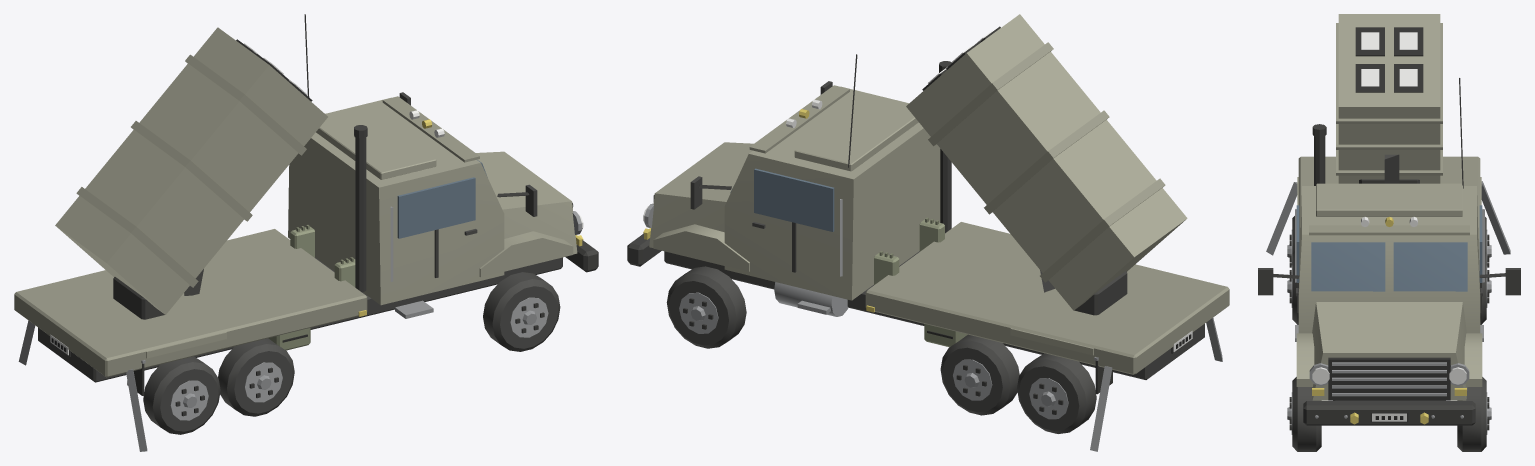
Rendered from arrow.glb.
3 views of the same model, side by side, from view 1: azimuth 30°, elevation 25°; view 2: azimuth 150°, elevation 25°; view 3: azimuth 270°, elevation 25° (orthographic). The views are drawn at different scales.
Visible parts, largest first — view 1: hull, turret; view 2: hull, turret; view 3: hull, turret.
Part boxes in pixels (x1,y1,x2,y2): hull: [14, 14, 598, 451]; turret: [55, 27, 327, 319]; hull: [627, 54, 1229, 451]; turret: [906, 14, 1187, 315]; hull: [1258, 78, 1520, 451]; turret: [1336, 14, 1442, 183].
Size of the model in its own units: 8.17 by 5.07 by 3.76.
